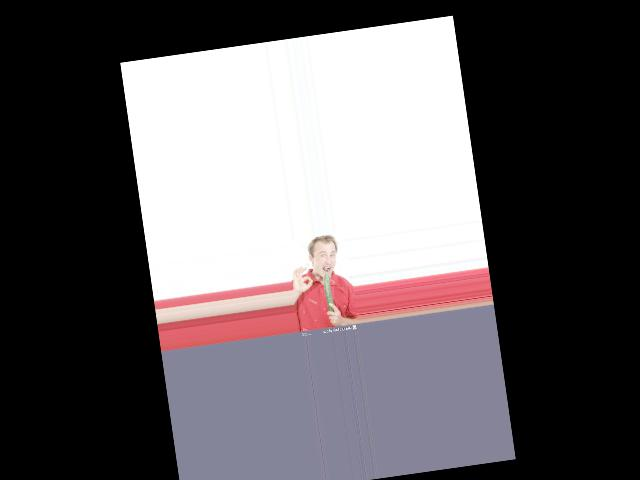cucumber: (322, 273, 333, 312)
